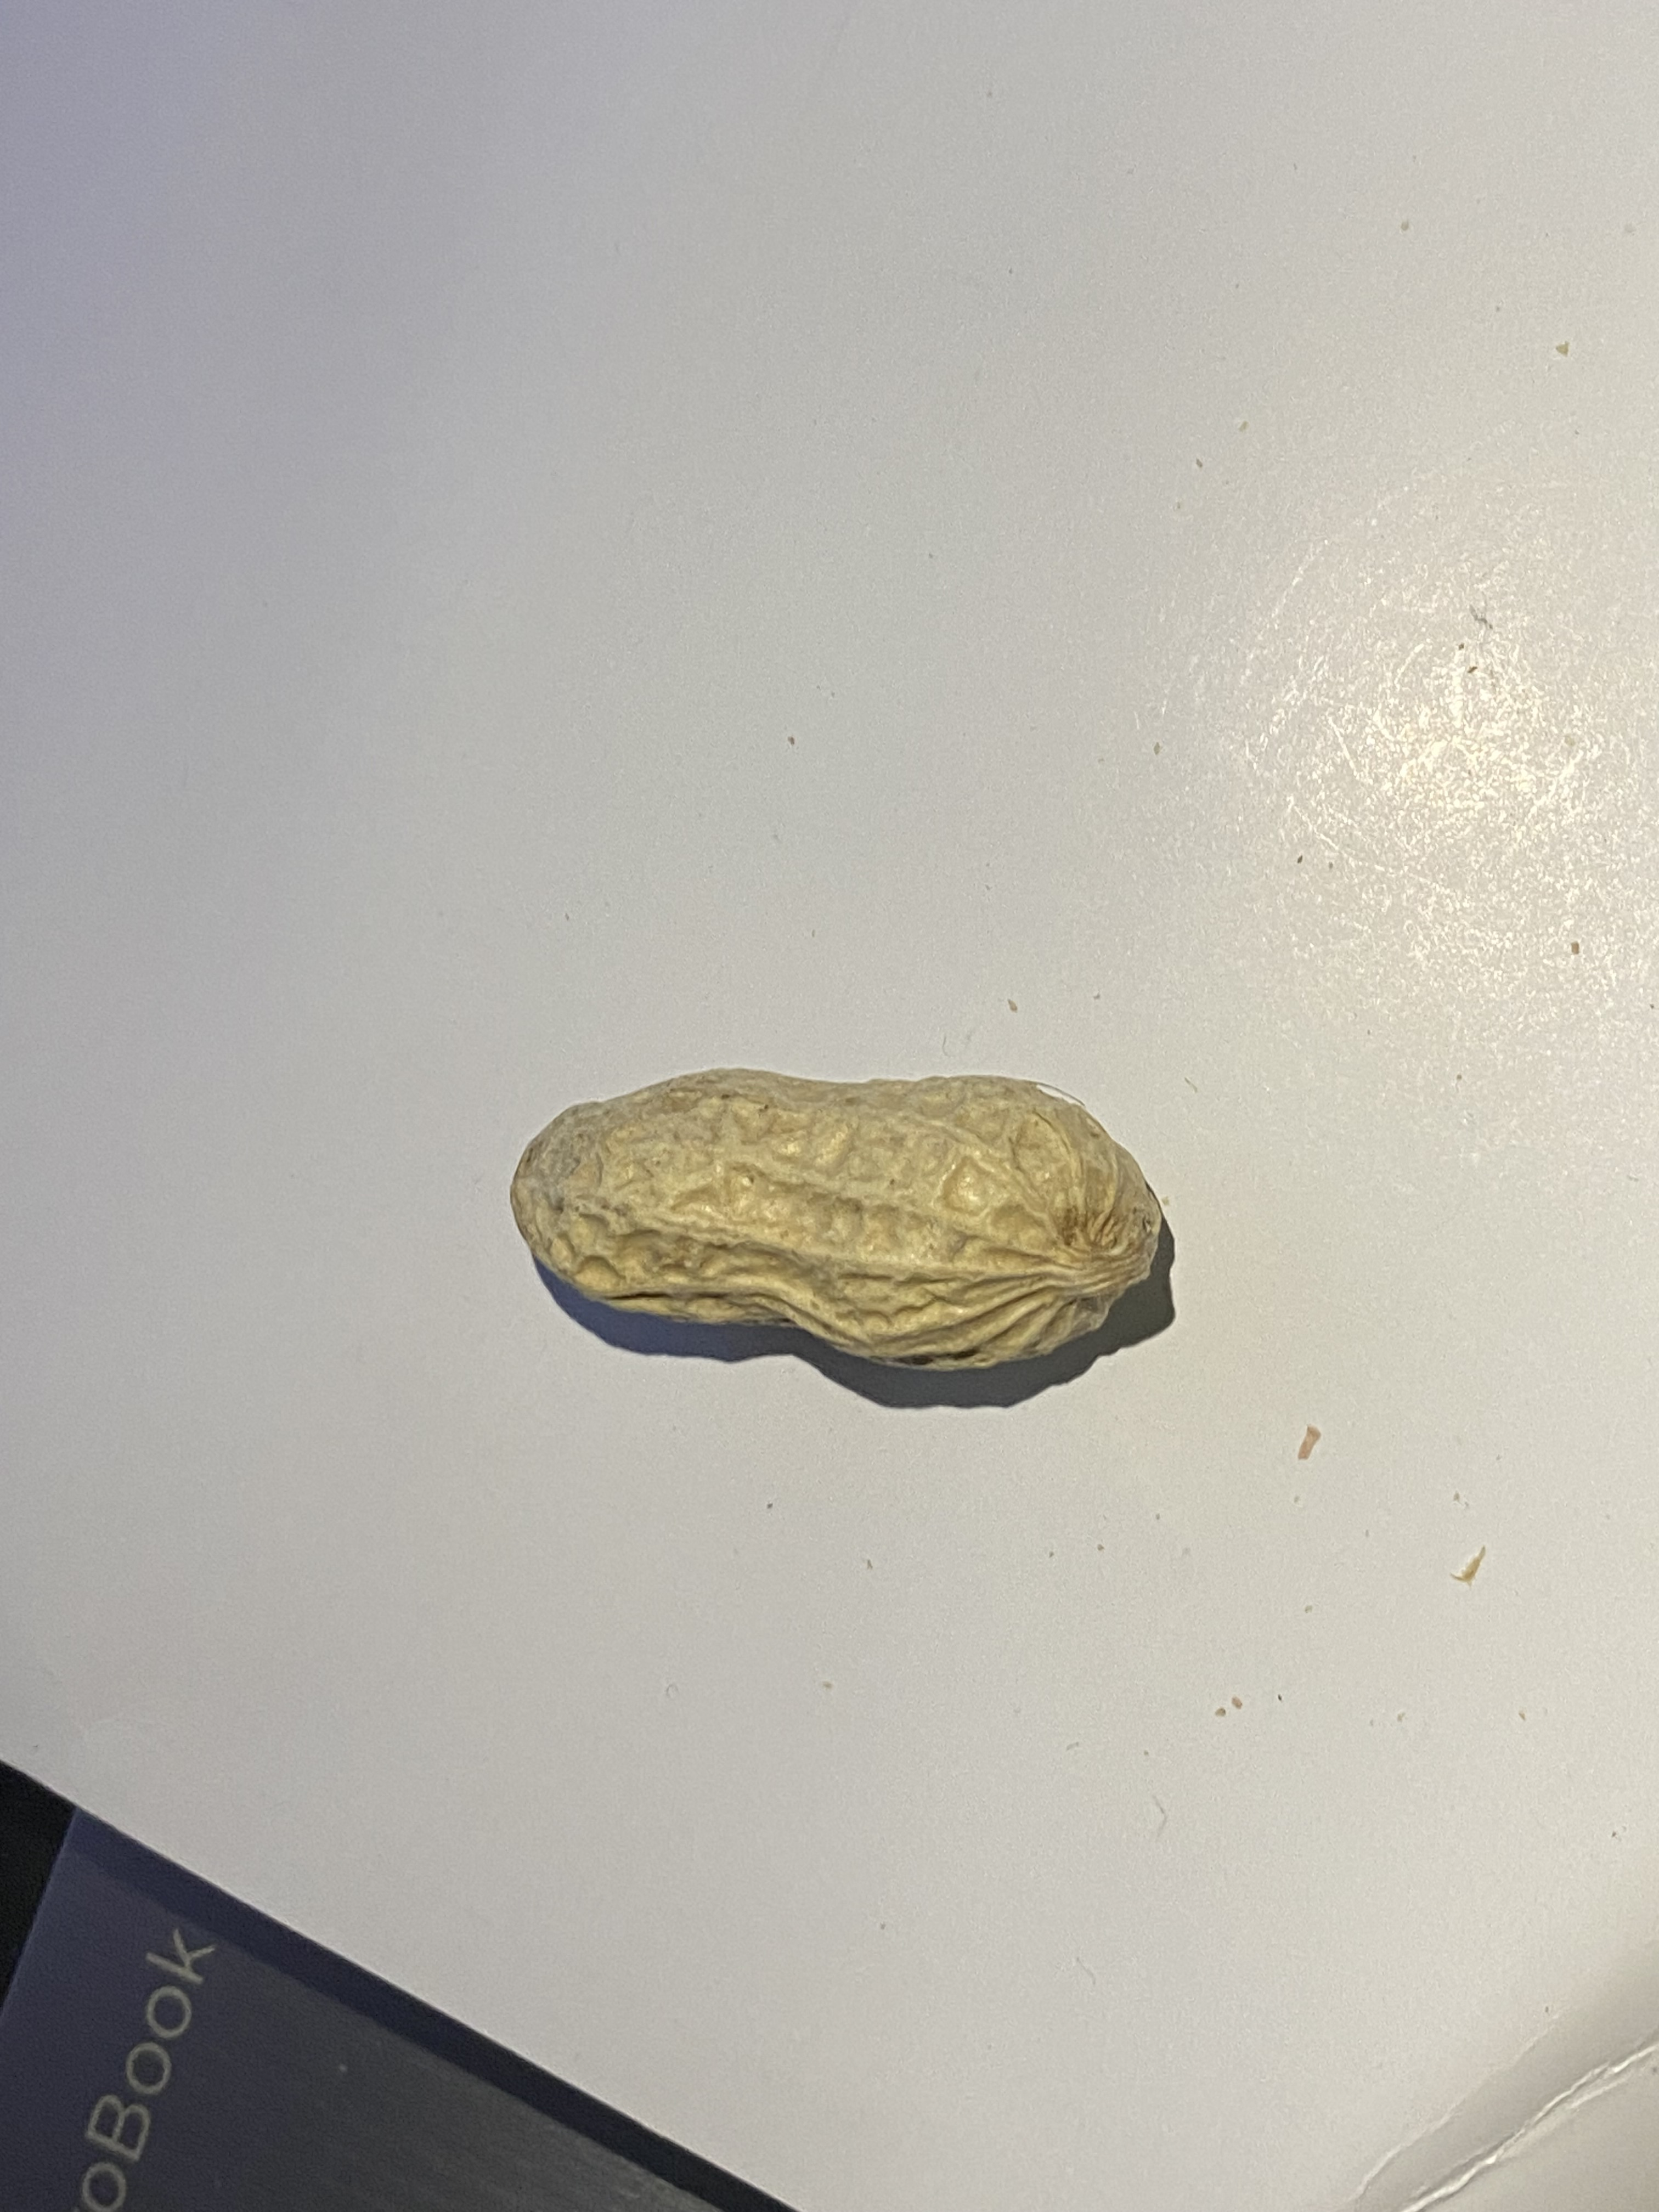kacang2: (495, 1035, 1215, 1411)
